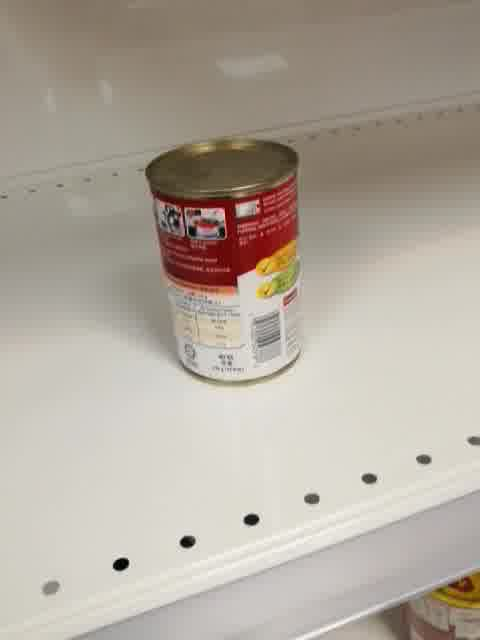tomatosoup: (142, 136, 306, 388)
